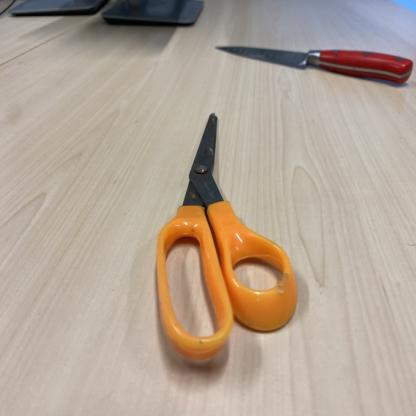Knife: (214, 44, 414, 87)
scissors: (153, 111, 300, 358)
